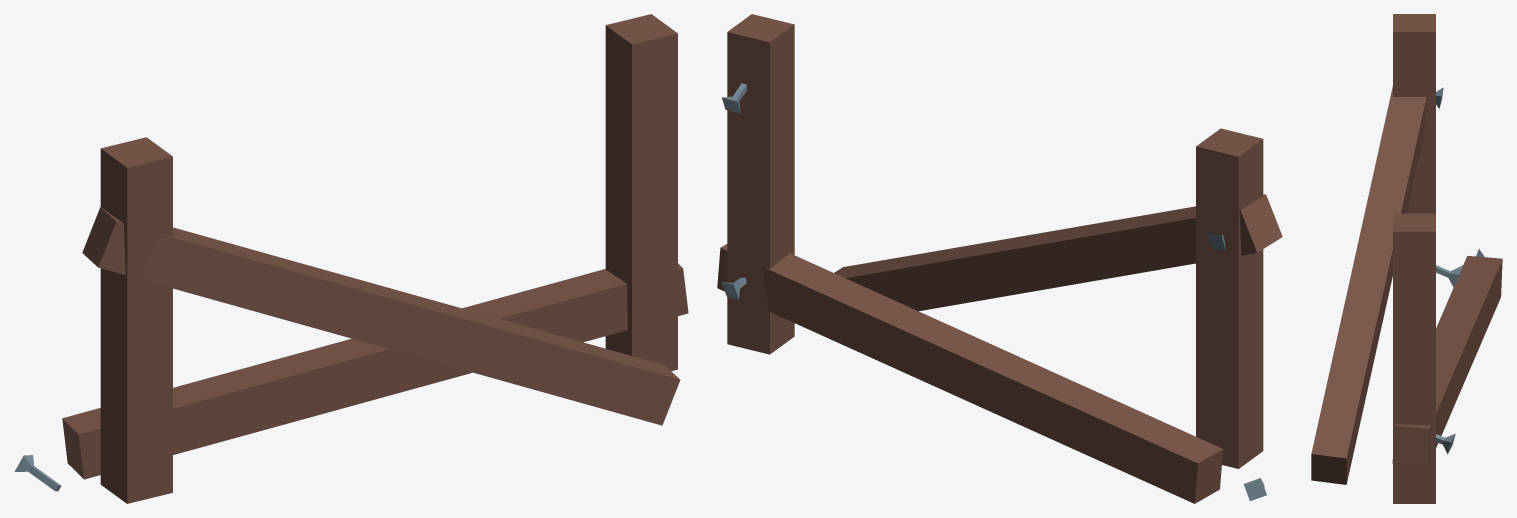
The model's file is fence-5.glb.
3 views of the same model, side by side, from view 1: azimuth 30°, elevation 25°; view 2: azimuth 150°, elevation 25°; view 3: azimuth 270°, elevation 25° (orthographic). The views are drawn at different scales.
Parts seen in each view (by area): view 1: group1089299160, group1665241248, group251762872, group320382041; view 2: group1665241248, group1089299160, group320382041, group251762872; view 3: group1089299160, group251762872, group1665241248, group320382041, group423761238.
Part boxes in pixels (<box>): group1089299160: <box>82,207,680,425</box>; group1665241248: <box>62,263,688,479</box>; group251762872: <box>605,14,677,371</box>; group320382041: <box>100,137,172,503</box>; group1665241248: <box>717,244,1222,503</box>; group1089299160: <box>834,194,1282,311</box>; group320382041: <box>1196,128,1263,468</box>; group251762872: <box>727,14,794,354</box>; group1089299160: <box>1311,86,1426,484</box>; group251762872: <box>1393,213,1435,503</box>; group1665241248: <box>1392,256,1502,467</box>; group320382041: <box>1393,14,1435,213</box>; group423761238: <box>1436,265,1460,287</box>.
Bounding box in the file's own units: 1.09 × 0.5765 × 0.3565.
